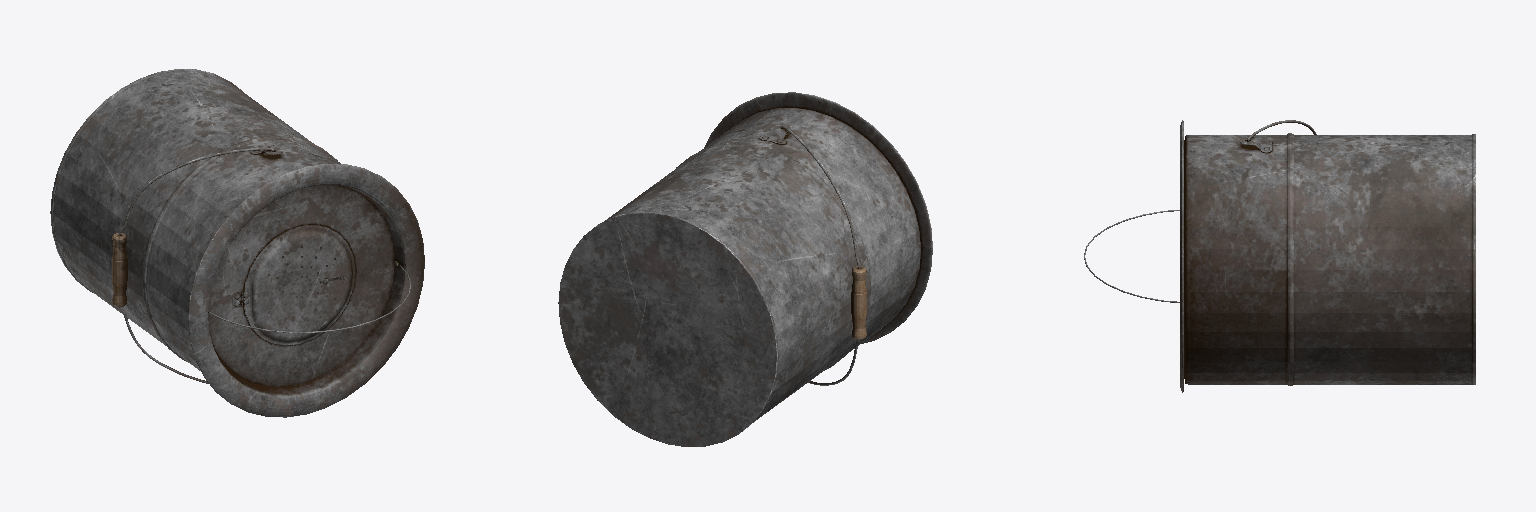
3 views of the same model, side by side, from view 1: azimuth 30°, elevation 25°; view 2: azimuth 150°, elevation 25°; view 3: azimuth 270°, elevation 25° (orthographic).
Bounding box in the file's own units: 9.14 × 9.02 × 12.91.
1 materials, 1 textured.